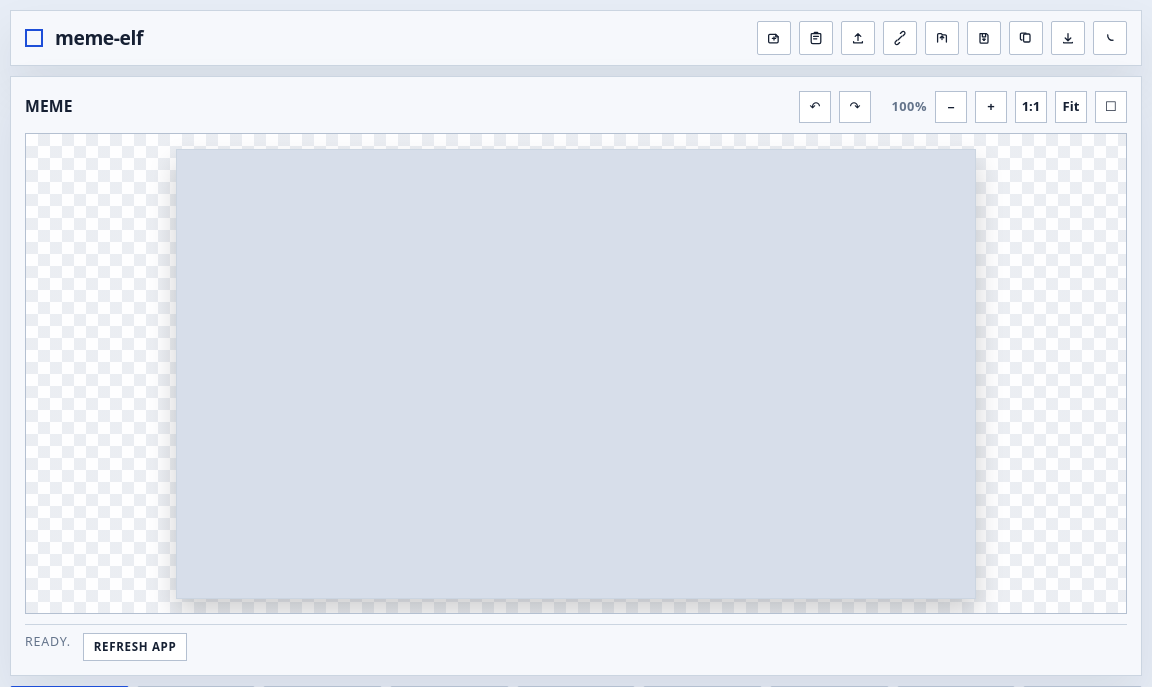
Test: App › requests the waiting shell update when refresh app is pressed
Click the button "Refresh app" at (135, 647), box [83,633,187,661]
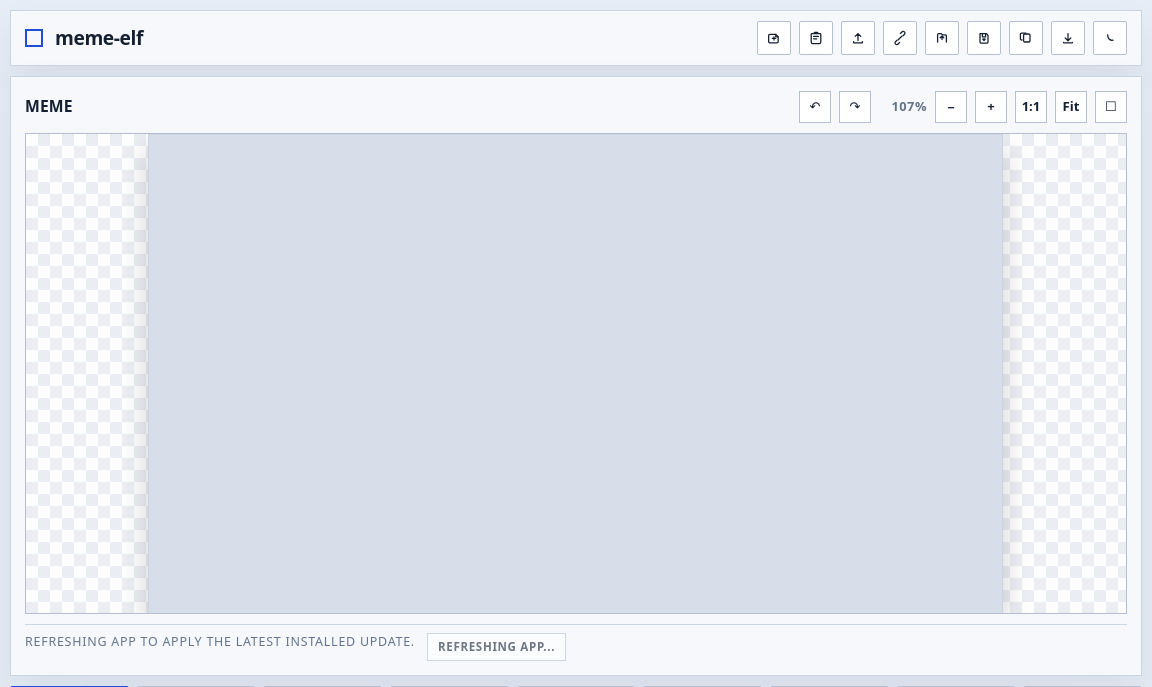
Now the text "Refreshing app to apply the latest installed update." is shown, box [25,633,415,661]
Now the button "Refreshing app..." is disabled, box [427,633,566,661]
